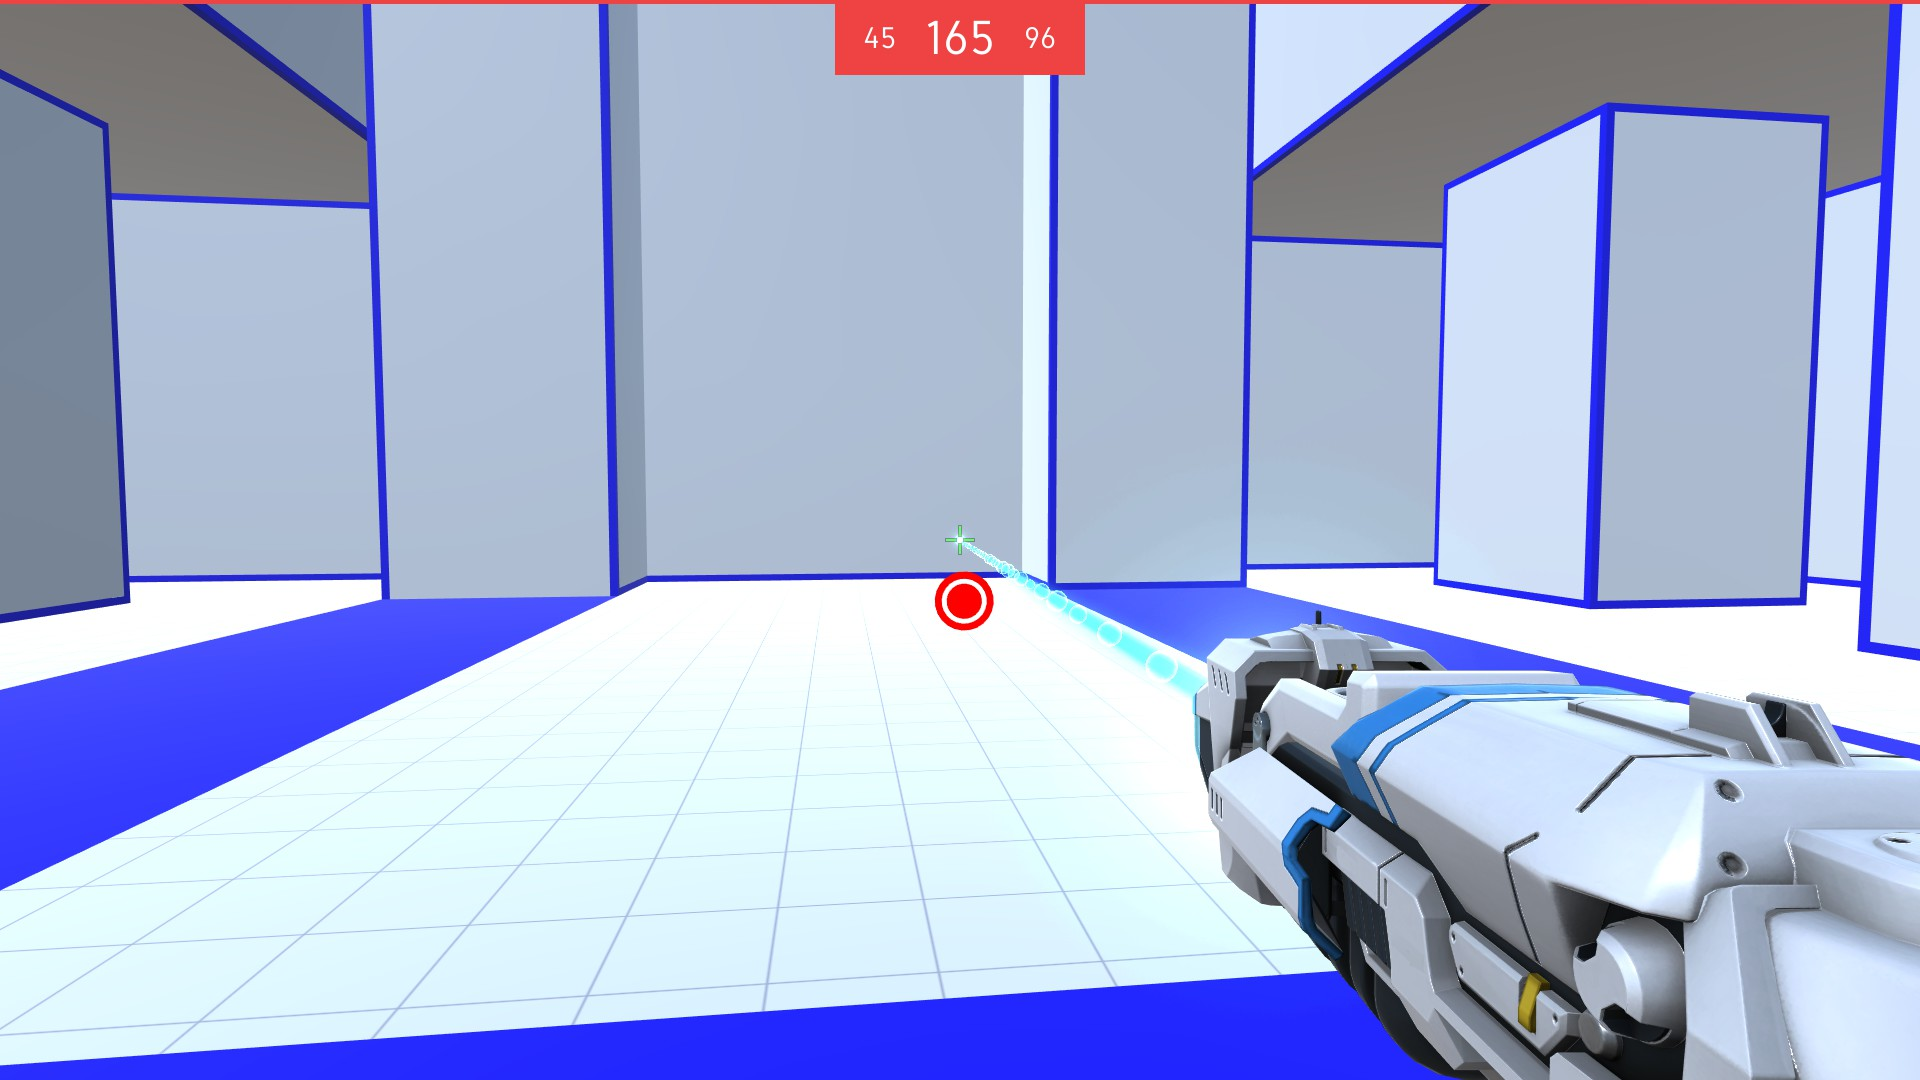target: (931, 574, 998, 630)
